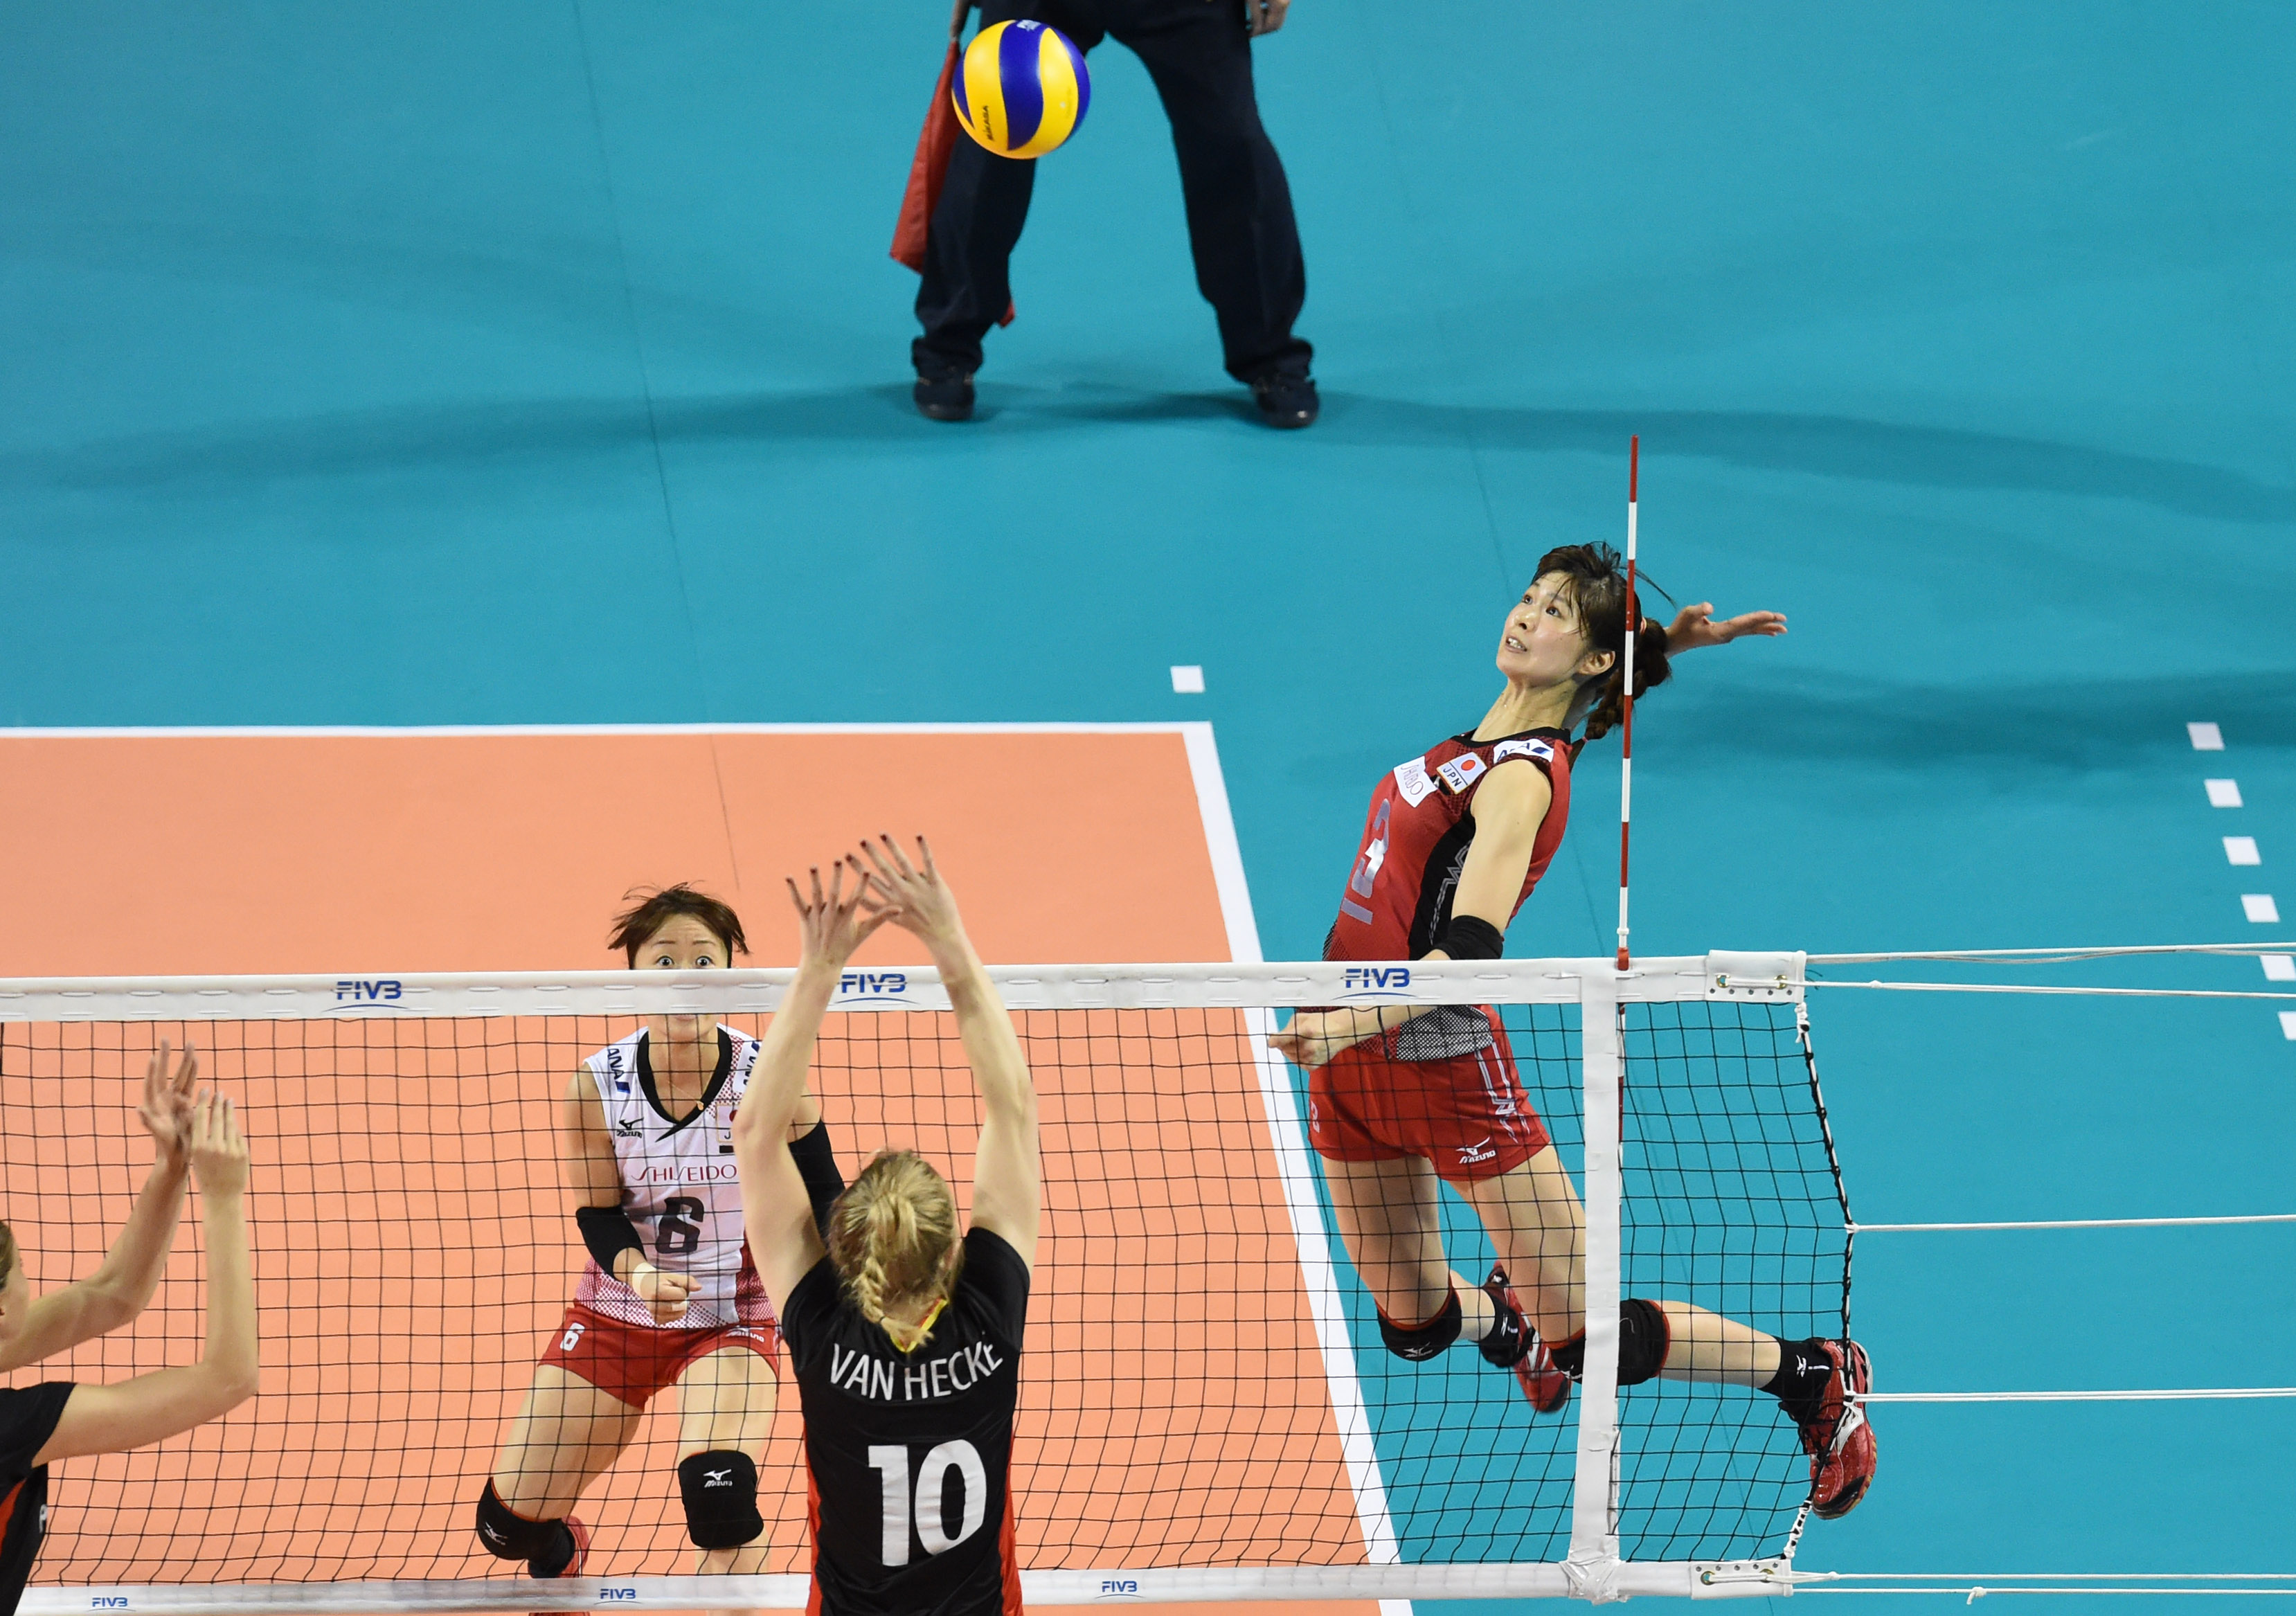volleyball: (953, 21, 1098, 159)
